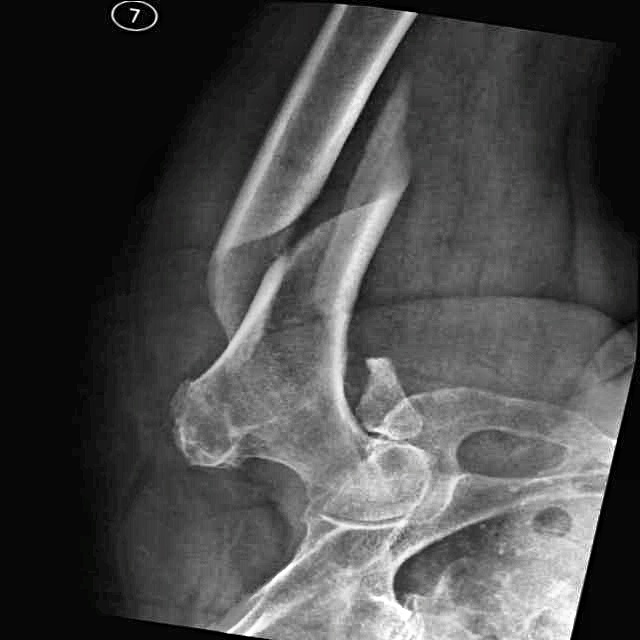Spiral: (135, 75, 427, 352)
